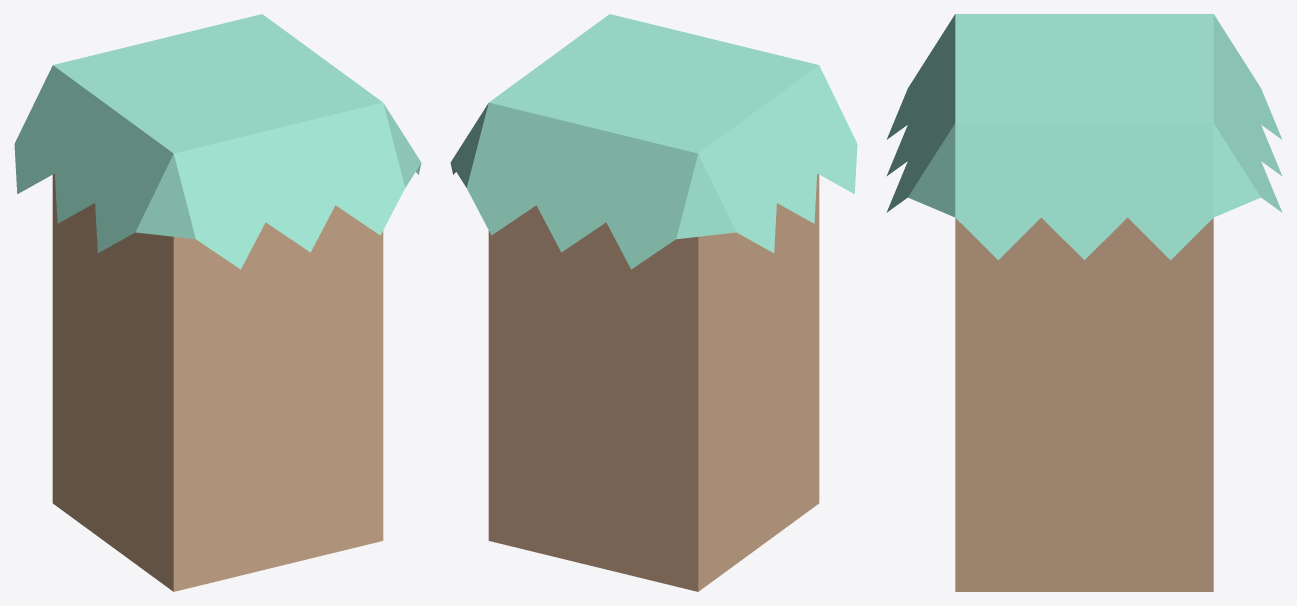
The picture shows the model from 3 angles, left to right: view 1: azimuth 30°, elevation 25°; view 2: azimuth 150°, elevation 25°; view 3: azimuth 270°, elevation 25°; orthographic projection. The views are drawn at different scales.
Visible parts, largest first — view 1: blockQuarter; view 2: blockQuarter; view 3: blockQuarter.
Part boxes in pixels (bbox=[...]): blockQuarter: bbox=[14, 14, 421, 591]; blockQuarter: bbox=[450, 14, 857, 591]; blockQuarter: bbox=[886, 14, 1282, 591].
Size of the model in its own units: 0.7661 by 1 by 0.7661.
